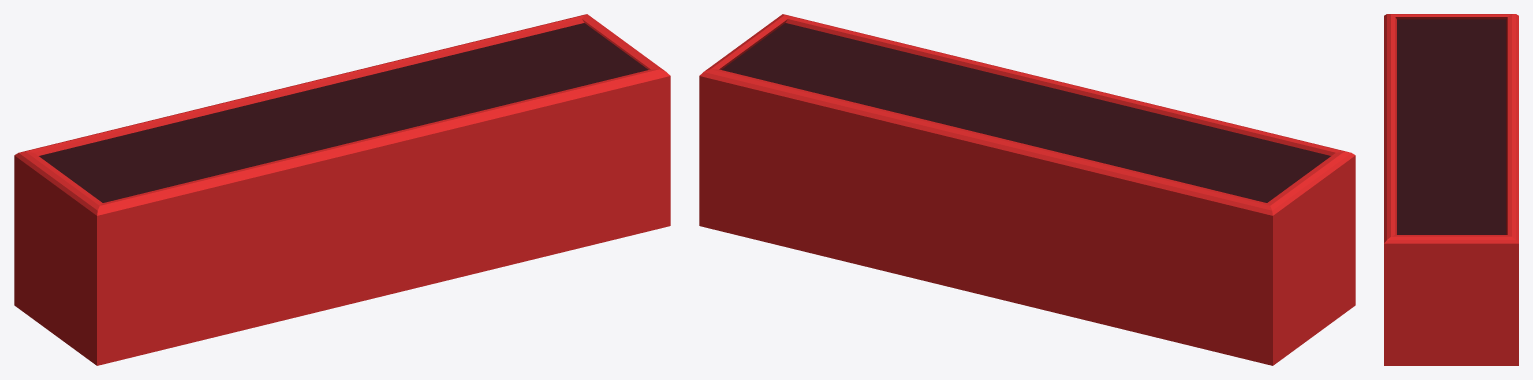
Rendered from FlowerBed.fbx.
3 renders of one model, left to right at view 1: azimuth 30°, elevation 25°; view 2: azimuth 150°, elevation 25°; view 3: azimuth 270°, elevation 25°, orthographic. The views are drawn at different scales.
Parts seen in each view (by area): view 1: Cube; view 2: Cube; view 3: Cube.
Part boxes in pixels (bbox=[...]): Cube: bbox=[14, 14, 670, 365]; Cube: bbox=[699, 14, 1355, 365]; Cube: bbox=[1384, 14, 1518, 365].
Size of the model in its own units: 800 by 207 by 200.
